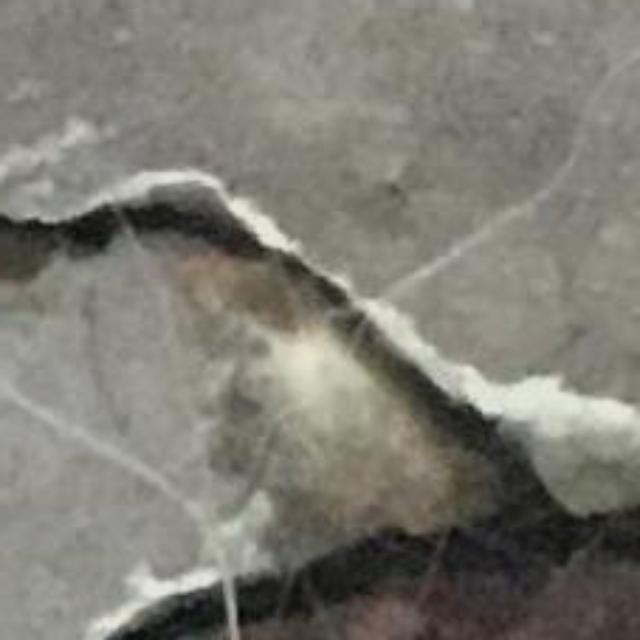crack: (0, 171, 639, 639)
